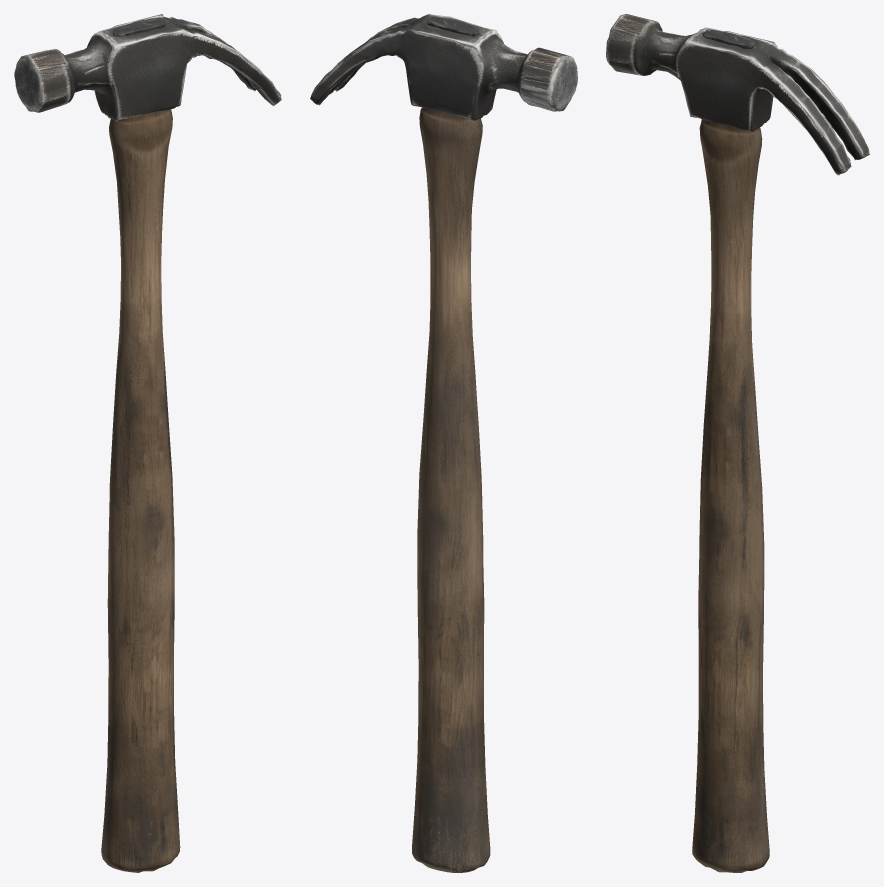
The model's file is hammer.glb.
3 renders of one model, left to right at view 1: azimuth 30°, elevation 25°; view 2: azimuth 150°, elevation 25°; view 3: azimuth 330°, elevation 25°, orthographic.
Parts seen in each view (by area): view 1: Mesh_0.001; view 2: Mesh_0.001; view 3: Mesh_0.001.
Boxes of the visible parts, <box> form: Mesh_0.001: <box>14,14,281,872</box>; Mesh_0.001: <box>310,14,577,872</box>; Mesh_0.001: <box>606,14,869,872</box>.
Bounding box in the file's own units: 0.1063 × 0.35 × 0.0255.
Materials: 1 (1 with a texture image).
